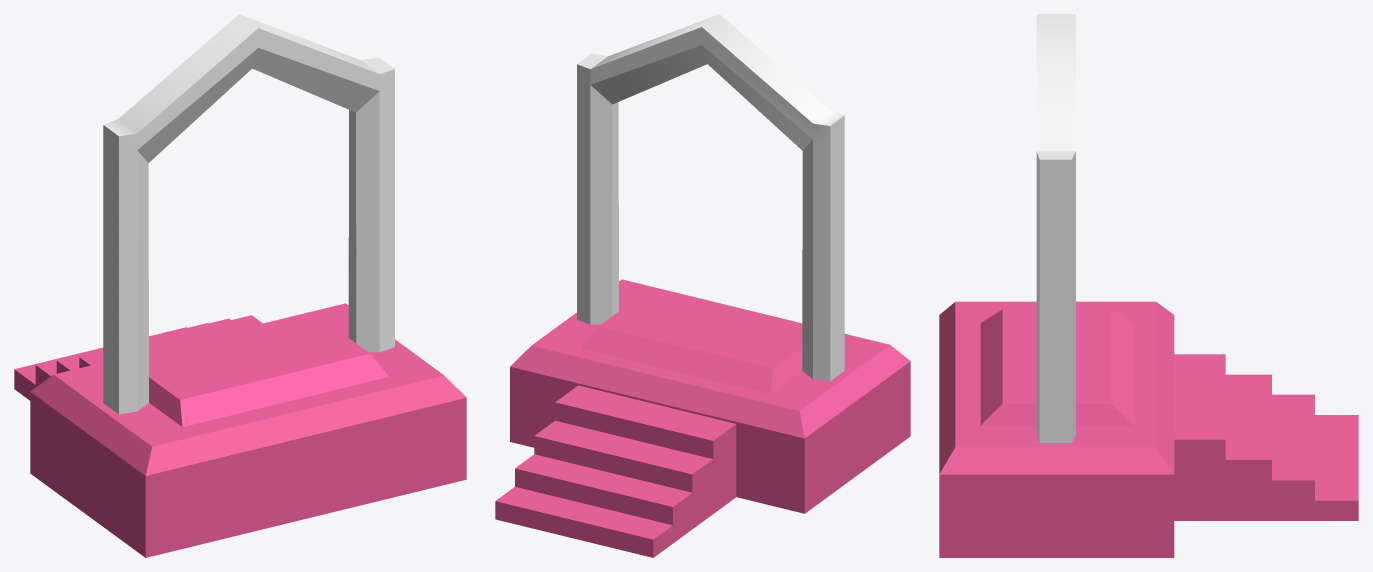
File: portal.glb
3 views of the same model, side by side, from view 1: azimuth 30°, elevation 25°; view 2: azimuth 150°, elevation 25°; view 3: azimuth 270°, elevation 25° (orthographic). The views are drawn at different scales.
Visible parts, largest first — view 1: stairs.001; view 2: stairs.001; view 3: stairs.001.
Boxes of the visible parts, x1,y1,x2,y2 form: stairs.001: (14,14,466,557); stairs.001: (495,14,910,557); stairs.001: (939,14,1358,557).
Bounding box in the file's own units: 4.91 × 6.66 × 5.45.
